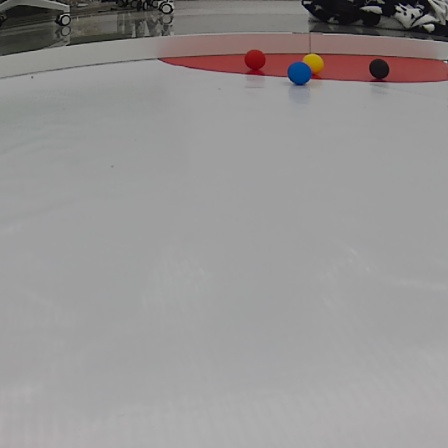black: (367, 58, 391, 81)
blue: (286, 60, 313, 87)
red: (241, 46, 268, 71)
red_base: (155, 52, 448, 85)
yellow: (298, 51, 330, 74)
